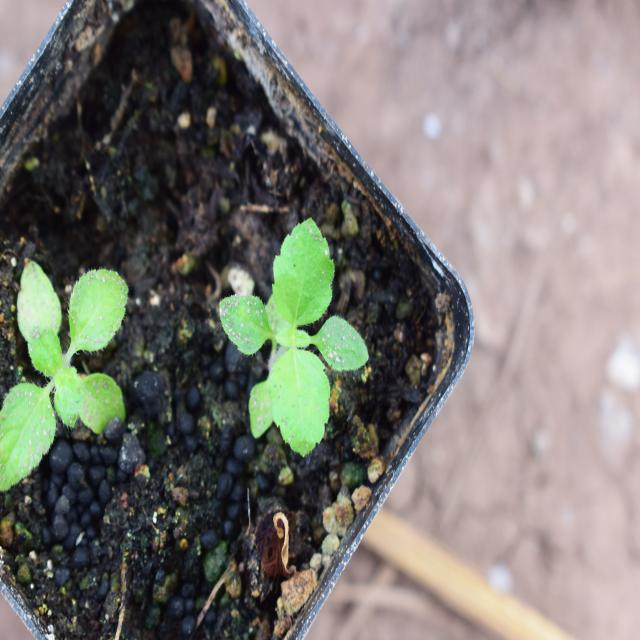billygoat_weed: (201, 206, 381, 466), (0, 210, 147, 498)
